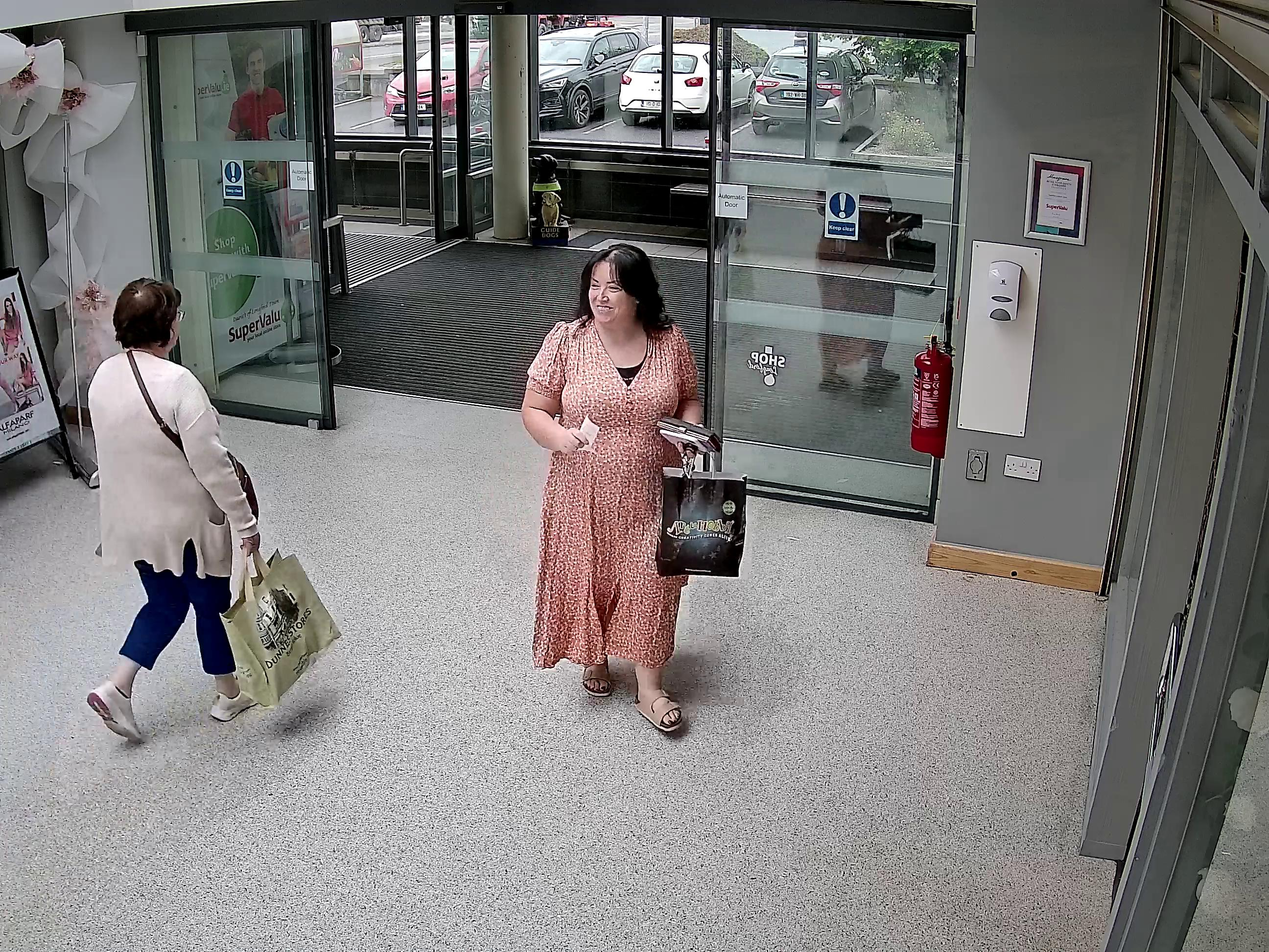backpack-or-handbag: (224, 442, 261, 523)
filled-shopping-bags: (221, 541, 341, 707), (657, 458, 748, 577)
person: (522, 245, 704, 737), (83, 279, 259, 741)
person-with-backpack-handbag-and-shopping-bag-s-: (85, 279, 339, 743)
person-with-filled-shopping-bag-s-: (521, 244, 747, 738)
